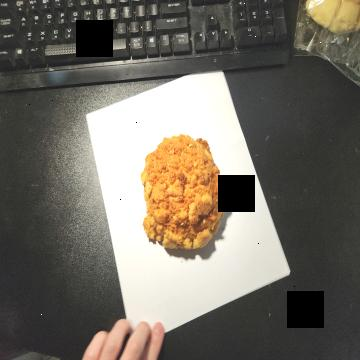soboru_bread: (139, 134, 224, 250)
